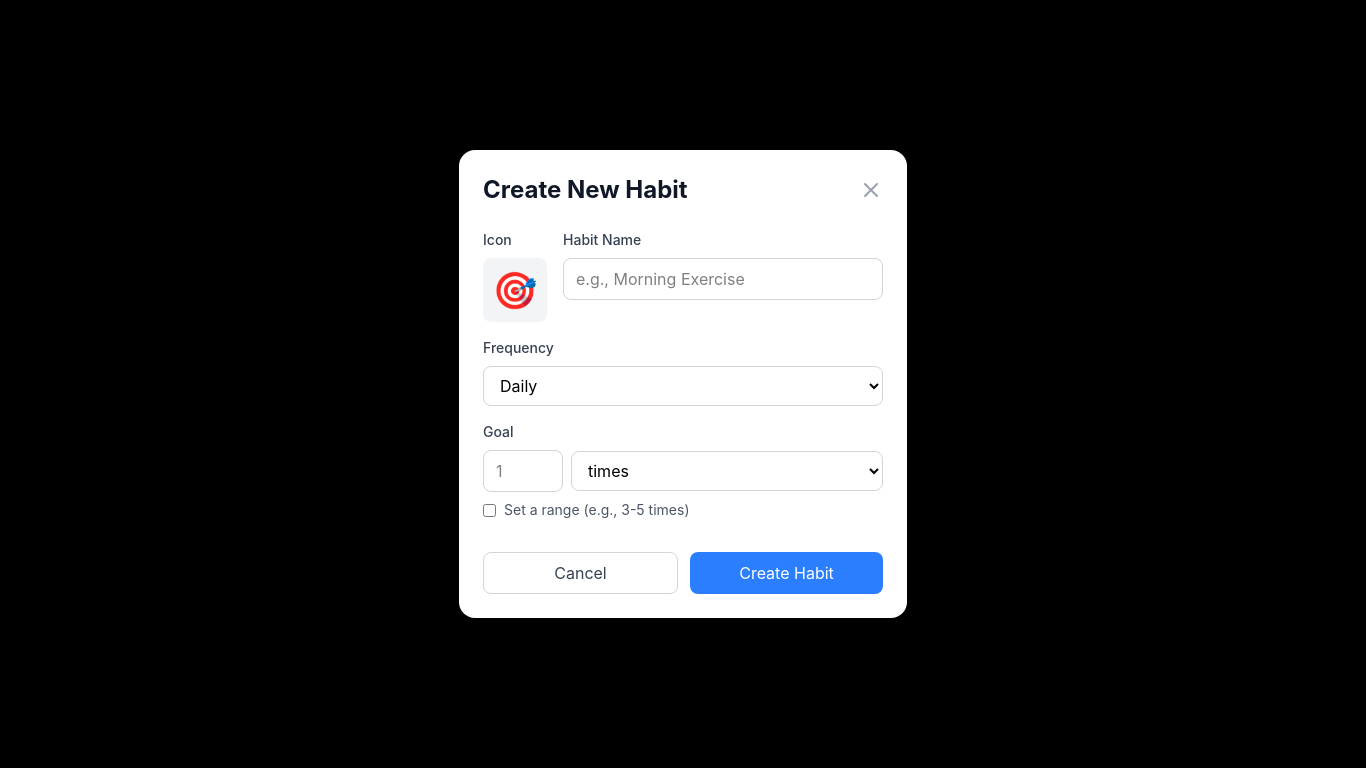
Test: HabitForm › Form Validation › shows error when goal is invalid
Step 1. Type "Test" into the field with placeholder "e.g., Morning Exercise" → {"x": 723, "y": 279}, box [563,258,883,300]
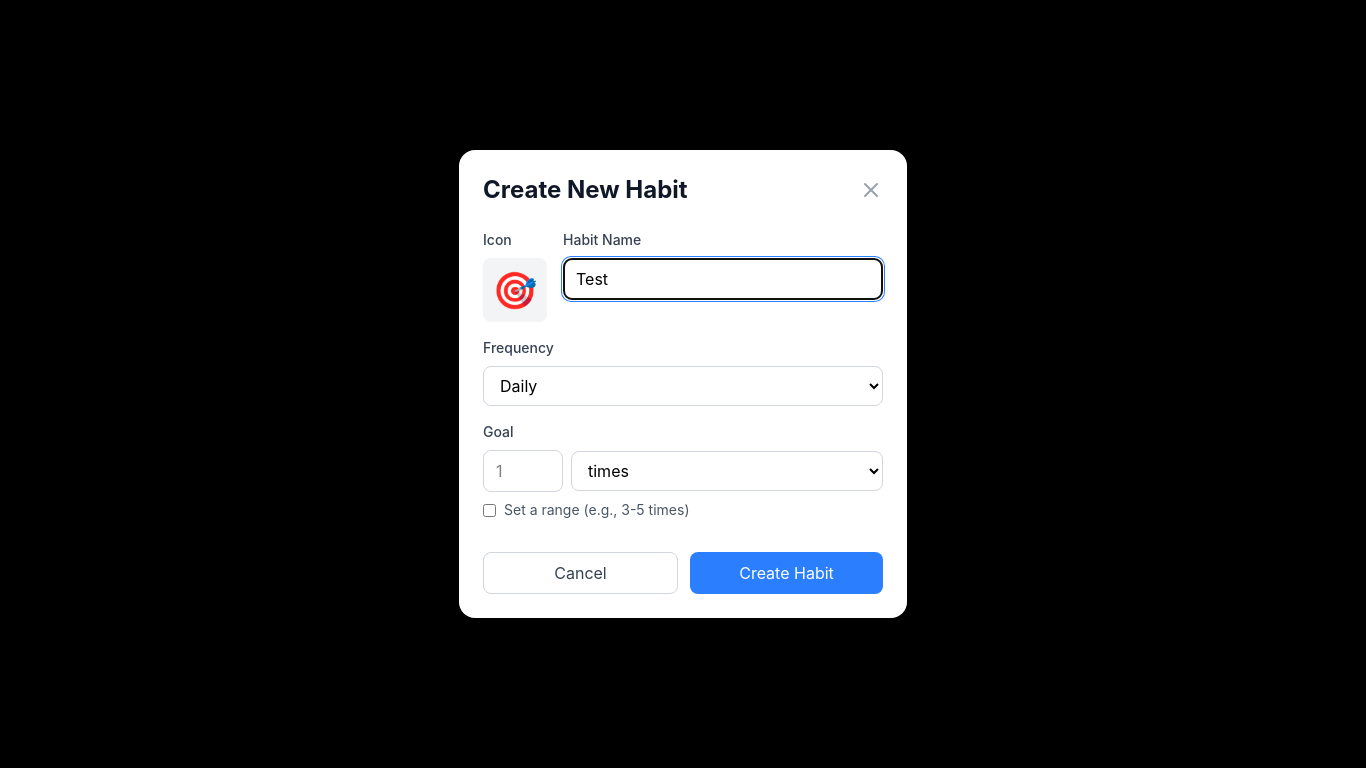
Step 2. Click the button "Create Habit" → {"x": 786, "y": 573}, box [690,552,883,594]
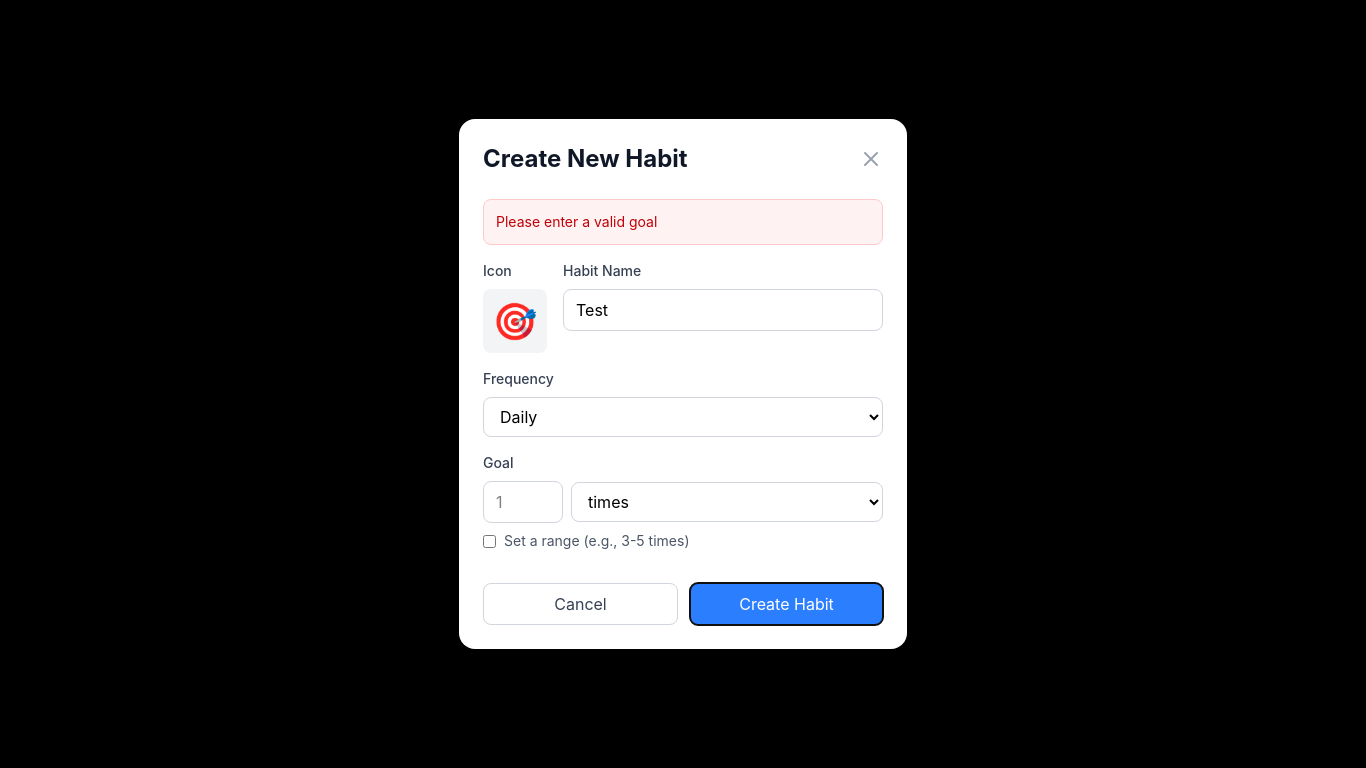
Now the text "Please enter a valid goal" is shown, box [483,199,883,245]
